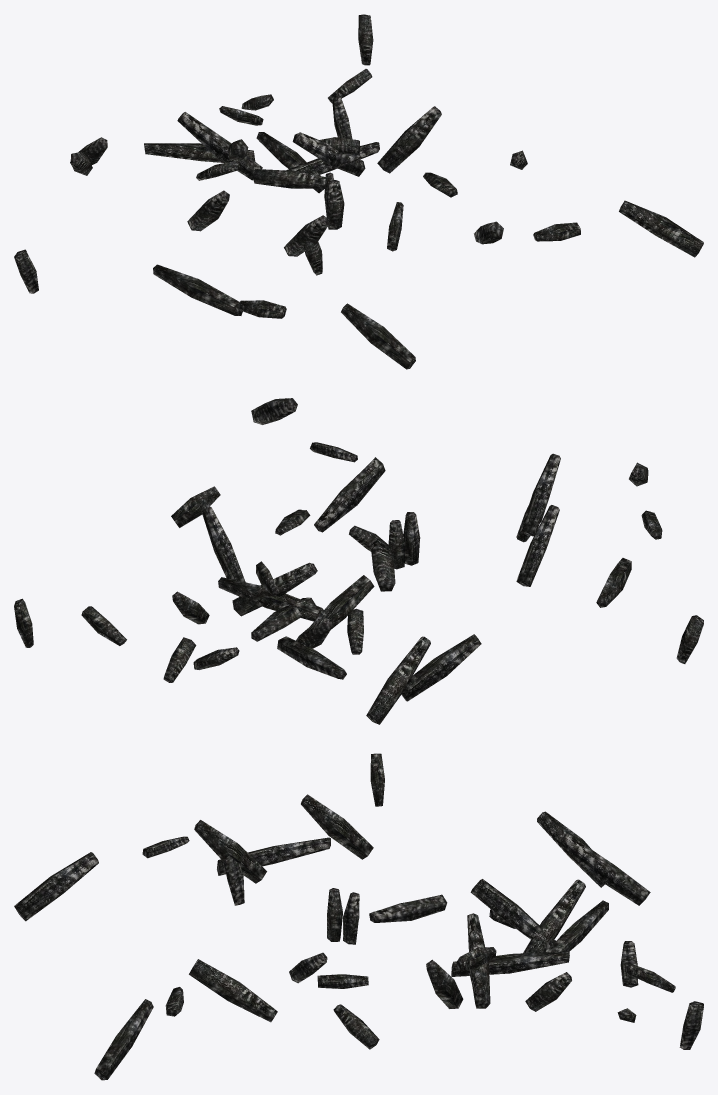
Rendered from KM_VOB_COALDEBRIS_02.glb.
3 views of the same model, one above another, from view 1: azimuth 30°, elevation 25°; view 2: azimuth 150°, elevation 25°; view 3: azimuth 270°, elevation 25° (orthographic). The views are drawn at different scales.
Visible parts, largest first — view 1: Mesh; view 2: Mesh; view 3: Mesh.
Boxes of the visible parts, left/top/right/bottom form: Mesh: left=14, top=14, right=703, bottom=369; Mesh: left=14, top=398, right=703, bottom=724; Mesh: left=14, top=753, right=703, bottom=1080.
Bounding box in the file's own units: 1.87 × 0.3112 × 1.88.
Materials: 1 (1 with a texture image).
